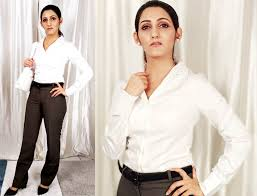F_W_pants: (15, 80, 68, 189)
F_belt: (110, 154, 199, 182), (28, 78, 70, 90)
F_shirt: (100, 60, 255, 186), (26, 38, 94, 93)
